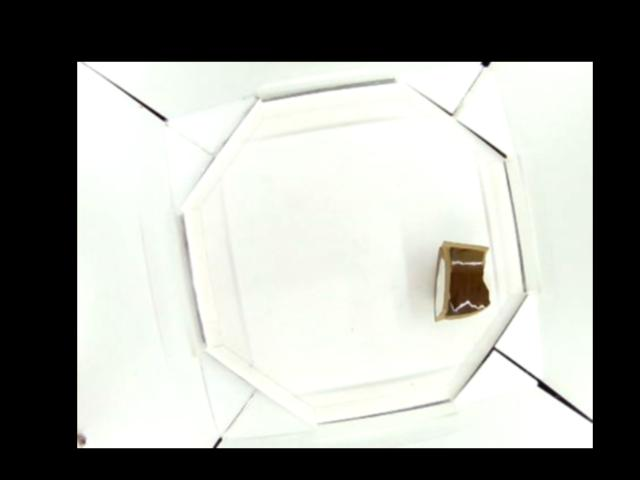China: (431, 239, 494, 318)
